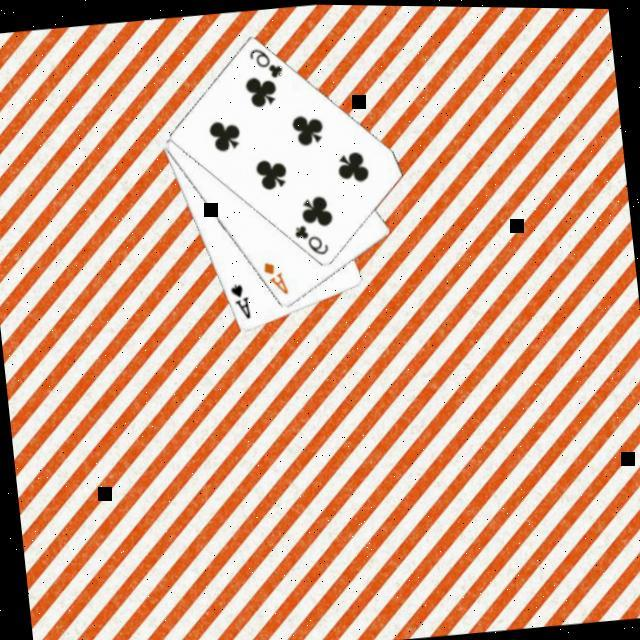6C: (288, 220, 330, 260), (242, 43, 284, 83)
AD: (257, 256, 289, 300)
AS: (225, 280, 252, 324)
